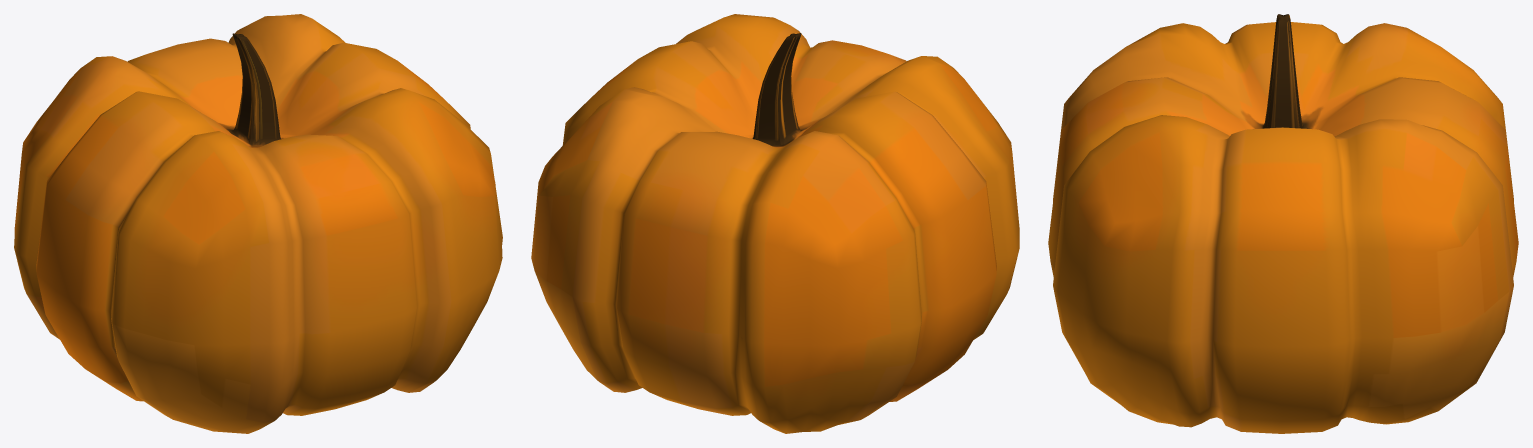
Rendered from pumpkin3.fbx.
3 renders of one model, left to right at view 1: azimuth 30°, elevation 25°; view 2: azimuth 150°, elevation 25°; view 3: azimuth 270°, elevation 25°, orthographic. The views are drawn at different scales.
Visible parts, largest first — view 1: pumpkin_st9; view 2: pumpkin_st9; view 3: pumpkin_st9.
Part boxes in pixels (left/top/right/bottom): pumpkin_st9: left=14, top=14, right=502, bottom=433; pumpkin_st9: left=531, top=14, right=1019, bottom=433; pumpkin_st9: left=1048, top=14, right=1518, bottom=433.
Bounding box in the file's own units: 1.26 × 0.9956 × 1.22.
1 material, 1 textured.
